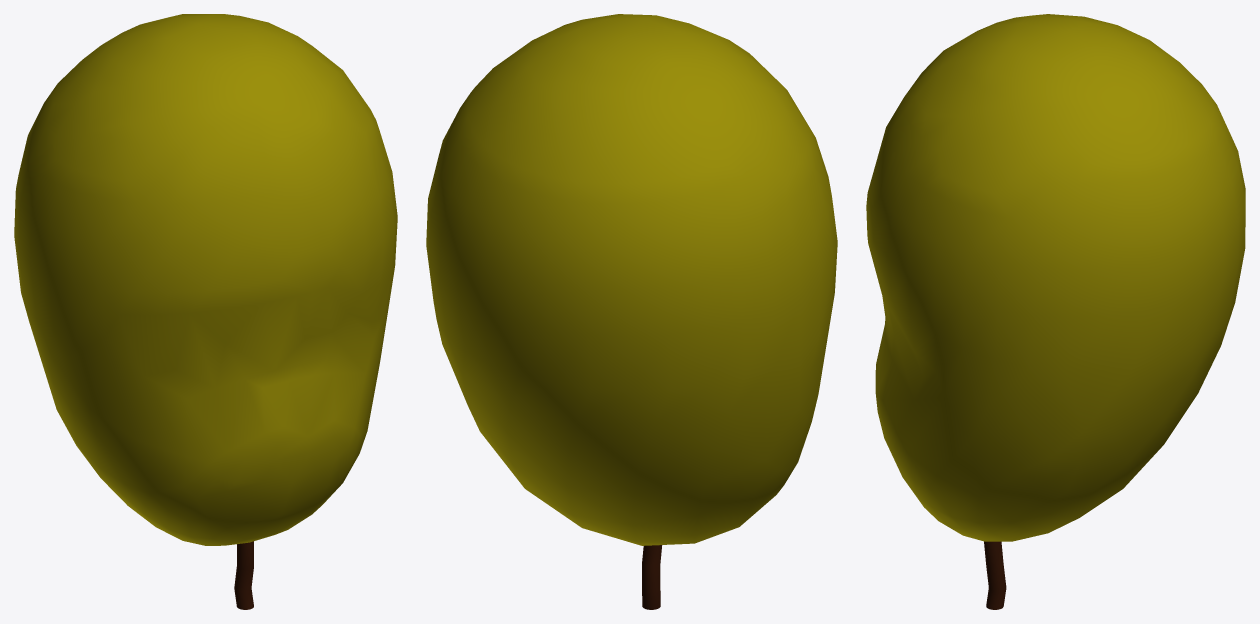
Rendered from Mango.FBX.
3 views of the same model, side by side, from view 1: azimuth 30°, elevation 25°; view 2: azimuth 150°, elevation 25°; view 3: azimuth 270°, elevation 25° (orthographic). The views are drawn at different scales.
Visible parts, largest first — view 1: Sphere001; view 2: Sphere001; view 3: Sphere001.
Boxes of the visible parts, x1,y1,x2,y2 form: Sphere001: (14, 14, 397, 609); Sphere001: (426, 14, 837, 609); Sphere001: (866, 14, 1245, 609).
Bounding box in the file's own units: 109 × 174 × 105.
